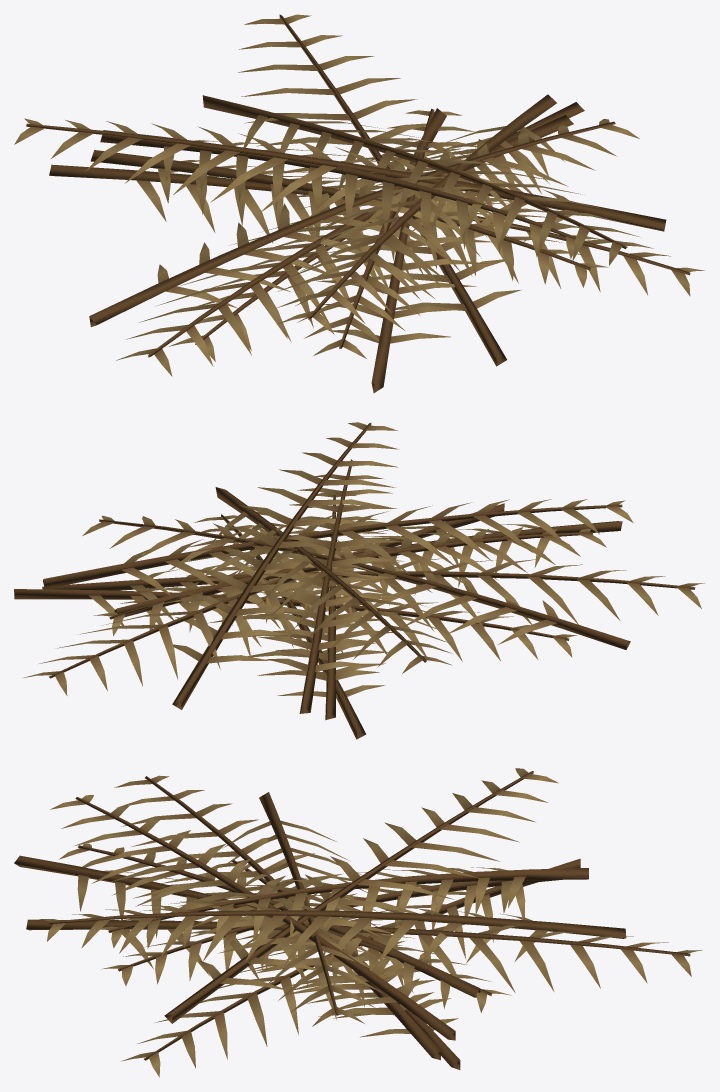
File: sawit_pelepah_tumpuk.glb
3 renders of one model, top to bottom at view 1: azimuth 30°, elevation 25°; view 2: azimuth 150°, elevation 25°; view 3: azimuth 270°, elevation 25°, orthographic. The views are drawn at different scales.
Parts seen in each view (by area): view 1: sawit_pelepah_tumpuk; view 2: sawit_pelepah_tumpuk; view 3: sawit_pelepah_tumpuk.
Part boxes in pixels (left/top/right/bottom): sawit_pelepah_tumpuk: left=14, top=14, right=704, bottom=393; sawit_pelepah_tumpuk: left=14, top=422, right=704, bottom=739; sawit_pelepah_tumpuk: left=14, top=768, right=702, bottom=1077.
Bounding box in the file's own units: 3.89 × 0.6599 × 4.14.
